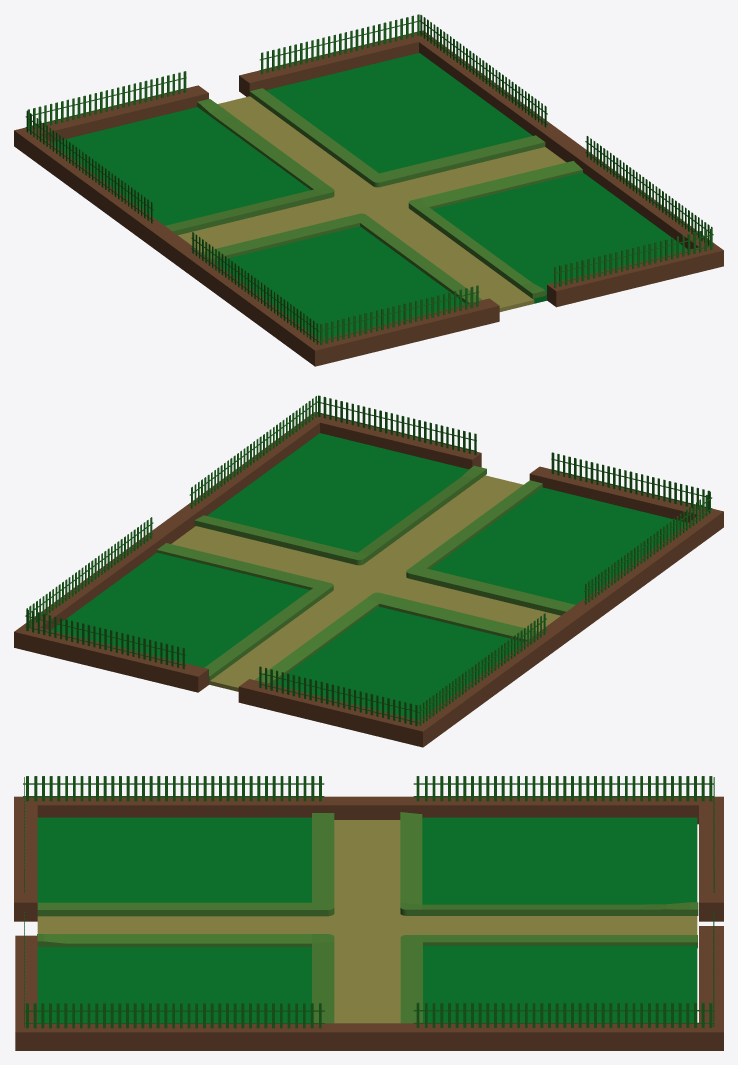
File: Cong vien.fbx
The picture shows the model from 3 angles, top to bottom: view 1: azimuth 30°, elevation 25°; view 2: azimuth 150°, elevation 25°; view 3: azimuth 270°, elevation 25°; orthographic projection. The views are drawn at different scales.
Visible parts, largest first — view 1: cong vien; view 2: cong vien; view 3: cong vien.
Part boxes in pixels (left/top/right/bottom): cong vien: left=14, top=14, right=723, bottom=366; cong vien: left=14, top=395, right=723, bottom=747; cong vien: left=14, top=776, right=723, bottom=1050.
Bounding box in the file's own units: 5369 × 472 × 6838.
